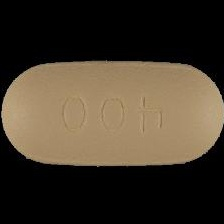16590-782: (0, 0, 224, 224)
